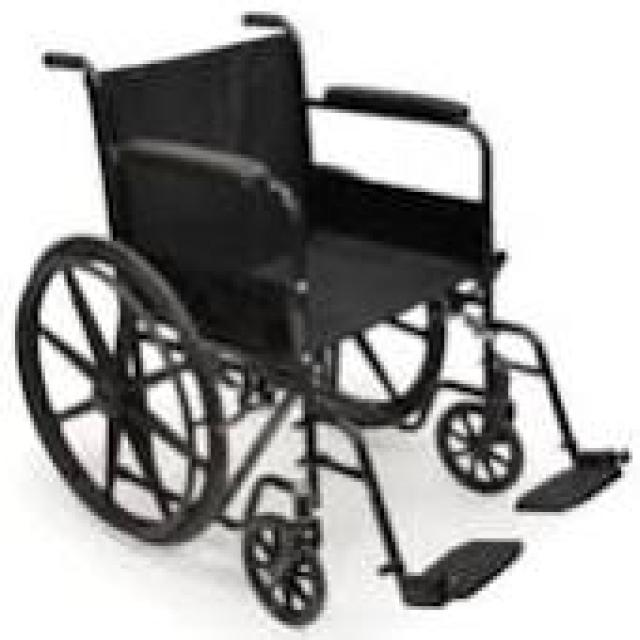wheelchairs: (26, 4, 629, 628)
